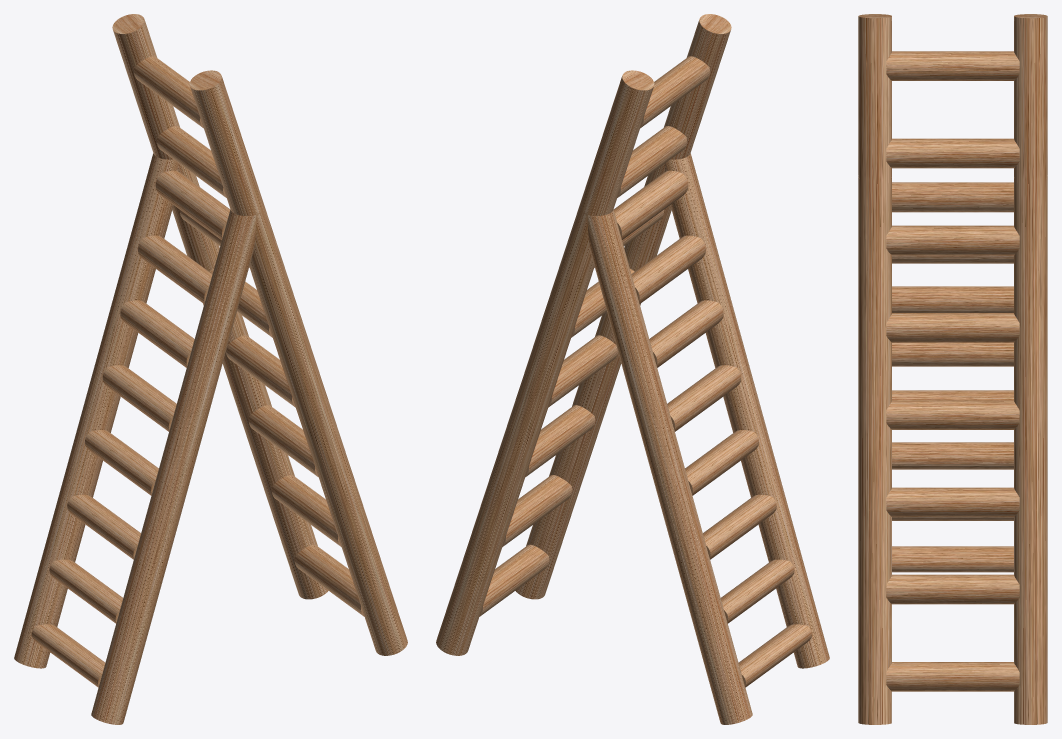
Rendered from The ladder 3.fbx.
3 views of the same model, side by side, from view 1: azimuth 30°, elevation 25°; view 2: azimuth 150°, elevation 25°; view 3: azimuth 270°, elevation 25° (orthographic).
Parts seen in each view (by area): view 1: Cylinder.003, Cylinder, Cylinder.004, Cylinder.001; view 2: Cylinder.003, Cylinder, Cylinder.004, Cylinder.001; view 3: Cylinder, Cylinder.001, Cylinder.004.
Part boxes in pixels (box(x1,y1,x2,y2)): Cylinder.003: box(14, 153, 259, 724); Cylinder: box(112, 14, 407, 655); Cylinder.004: box(31, 170, 230, 687); Cylinder.001: box(134, 56, 364, 616); Cylinder.003: box(584, 153, 829, 724); Cylinder: box(436, 14, 731, 655); Cylinder.004: box(613, 170, 812, 687); Cylinder.001: box(479, 56, 709, 616); Cylinder: box(858, 14, 1047, 724); Cylinder.001: box(886, 51, 1019, 691); Cylinder.004: box(892, 182, 1013, 572).
Size of the model in its own units: 1838 by 3508 by 957.
1 material, 1 textured.
